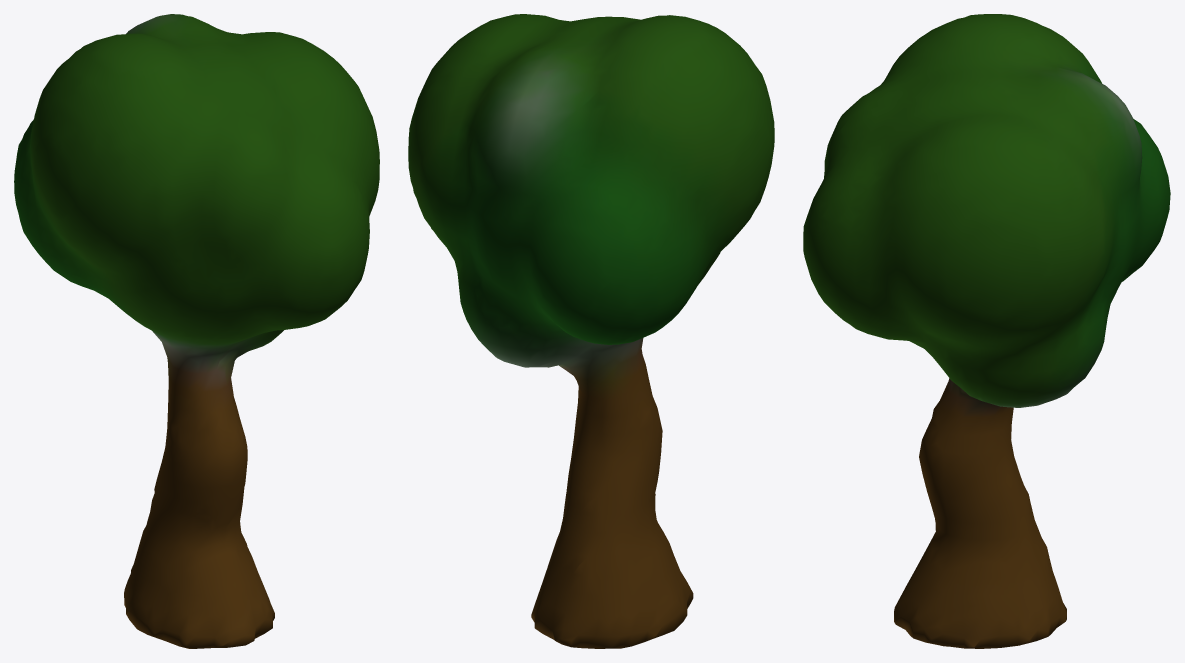
The model's file is Bubbled_4.glb.
3 renders of one model, left to right at view 1: azimuth 30°, elevation 25°; view 2: azimuth 150°, elevation 25°; view 3: azimuth 270°, elevation 25°, orthographic. The views are drawn at different scales.
Visible parts, largest first — view 1: Bubbled_4; view 2: Bubbled_4; view 3: Bubbled_4.
Boxes of the visible parts, x1,y1,x2,y2 form: Bubbled_4: (14, 14, 379, 648); Bubbled_4: (408, 14, 774, 648); Bubbled_4: (803, 14, 1170, 648).
Bounding box in the file's own units: 2.3 × 4.13 × 2.38.
